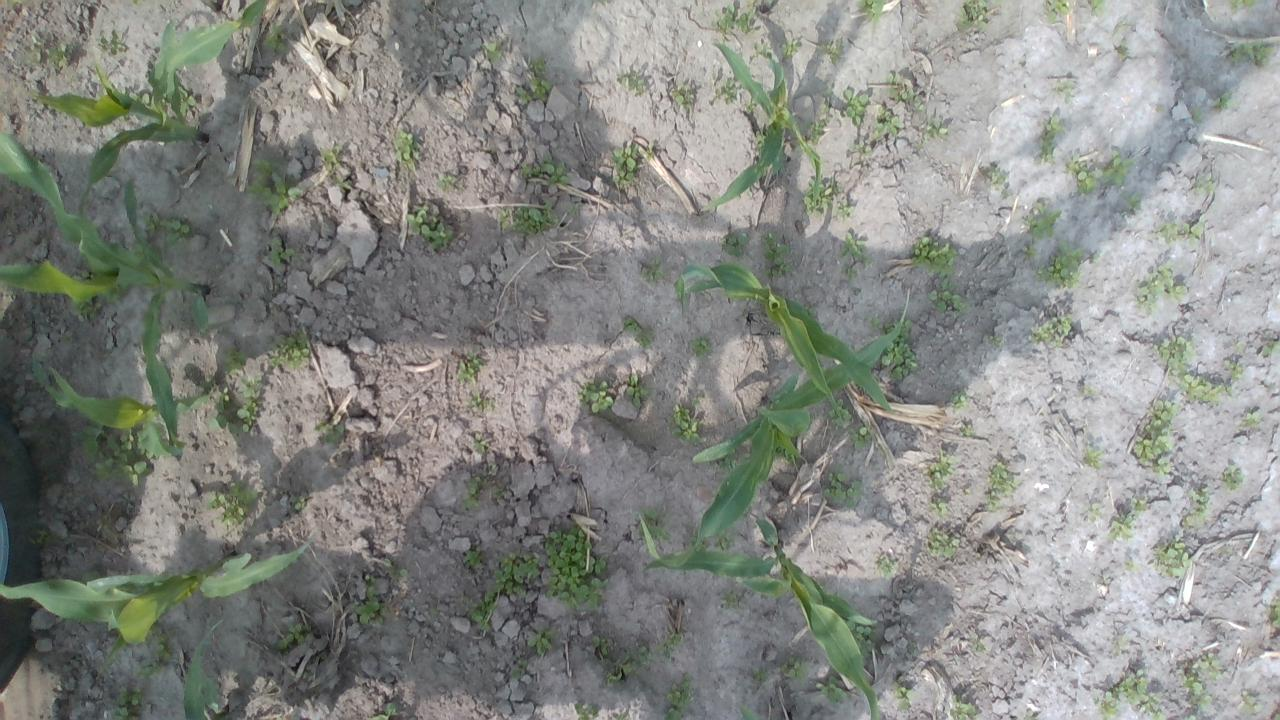Maize: (640, 289, 912, 572), (0, 128, 211, 464), (32, 0, 268, 221), (643, 506, 882, 720), (0, 540, 310, 670), (674, 261, 895, 416), (25, 344, 228, 461), (698, 38, 824, 212), (182, 618, 231, 720)
Weeds: (542, 529, 609, 614), (72, 419, 152, 489), (243, 156, 306, 217), (490, 548, 542, 599), (496, 197, 560, 238), (1112, 669, 1162, 720), (1034, 242, 1086, 290), (1134, 264, 1186, 312), (602, 640, 654, 688), (207, 481, 260, 528), (910, 236, 960, 280), (802, 176, 853, 219), (406, 206, 454, 250), (515, 56, 554, 106), (266, 327, 312, 369), (520, 152, 570, 188), (986, 462, 1022, 512), (1174, 374, 1230, 406), (823, 464, 863, 508), (760, 230, 796, 278), (1152, 336, 1197, 374), (1133, 434, 1173, 476), (668, 402, 706, 446), (880, 340, 919, 382), (927, 279, 971, 316), (238, 374, 265, 434), (840, 232, 874, 278), (1064, 154, 1102, 194), (663, 671, 694, 720), (887, 71, 924, 112), (1034, 115, 1064, 164), (712, 0, 756, 33), (1022, 203, 1062, 239), (631, 510, 673, 543), (1030, 314, 1072, 347), (1152, 538, 1188, 576), (578, 378, 616, 414), (815, 666, 849, 706), (266, 235, 304, 270), (845, 620, 878, 659), (926, 448, 956, 490), (609, 143, 638, 185), (111, 685, 144, 720), (1146, 398, 1178, 434), (144, 625, 176, 661), (1183, 487, 1211, 528), (841, 87, 869, 128), (1228, 40, 1272, 66), (955, 0, 988, 34), (622, 316, 658, 347), (159, 218, 194, 249), (1104, 150, 1134, 186), (1182, 674, 1212, 710), (924, 528, 960, 558), (528, 625, 562, 656), (1188, 650, 1222, 680), (872, 107, 902, 141), (468, 592, 493, 632), (983, 166, 1012, 200), (456, 352, 485, 385), (393, 128, 419, 163), (780, 656, 809, 686), (352, 598, 383, 626), (263, 22, 290, 54), (274, 622, 306, 648), (655, 631, 683, 660), (619, 69, 650, 95), (720, 230, 751, 256), (1108, 512, 1136, 540), (856, 0, 884, 28), (827, 399, 854, 428), (142, 209, 162, 248), (626, 373, 648, 408), (947, 695, 977, 720), (313, 421, 345, 444), (712, 77, 738, 105), (801, 117, 826, 146), (220, 350, 250, 374), (671, 78, 692, 112), (25, 33, 47, 65), (639, 255, 665, 282), (848, 423, 874, 450), (890, 681, 912, 712), (688, 334, 714, 360), (922, 118, 948, 144), (70, 297, 98, 321), (462, 475, 481, 510), (96, 31, 126, 53), (1044, 0, 1072, 23), (1098, 691, 1120, 720), (884, 318, 912, 340), (136, 660, 166, 680), (176, 85, 196, 115), (590, 632, 614, 656), (320, 142, 340, 170), (368, 702, 399, 720), (1182, 222, 1206, 245), (46, 43, 70, 66), (779, 36, 801, 61), (823, 38, 844, 64), (1241, 690, 1263, 714), (1223, 465, 1244, 490), (128, 90, 154, 110), (382, 557, 408, 577), (482, 41, 504, 64), (1085, 446, 1106, 470), (462, 545, 483, 569), (772, 444, 796, 465), (874, 552, 894, 576), (1239, 408, 1263, 428), (574, 702, 600, 720), (1053, 78, 1073, 101), (1196, 173, 1216, 194), (1157, 222, 1177, 243), (718, 589, 738, 610), (716, 531, 735, 553), (69, 268, 95, 284), (1224, 357, 1242, 380), (1124, 190, 1142, 212), (928, 498, 949, 516), (472, 432, 488, 455), (949, 391, 969, 409), (288, 494, 306, 514), (717, 454, 737, 472), (1269, 594, 1280, 626), (819, 87, 833, 112), (364, 573, 379, 596), (512, 659, 528, 680), (750, 665, 769, 682), (1214, 92, 1233, 109), (751, 41, 770, 58), (1020, 245, 1040, 261), (1229, 0, 1258, 11), (1262, 338, 1280, 354), (1086, 506, 1104, 522), (854, 142, 872, 158), (470, 390, 483, 412), (689, 534, 704, 552), (1118, 40, 1130, 62), (1090, 0, 1106, 16), (864, 314, 882, 328), (1131, 497, 1146, 513), (643, 142, 658, 158), (440, 174, 456, 188), (960, 422, 976, 436), (738, 447, 751, 464), (803, 303, 818, 317), (744, 98, 758, 112), (1188, 108, 1202, 122), (986, 334, 1000, 347), (754, 128, 764, 146), (338, 178, 352, 190), (1116, 20, 1128, 33), (1082, 384, 1096, 395), (1234, 340, 1246, 352), (116, 86, 128, 96), (128, 0, 141, 8), (494, 488, 504, 498), (1124, 561, 1134, 570), (1181, 714, 1196, 720), (991, 0, 1006, 6), (974, 641, 982, 651), (614, 713, 625, 720), (1273, 711, 1280, 720), (1024, 714, 1034, 720), (1092, 256, 1099, 262)
